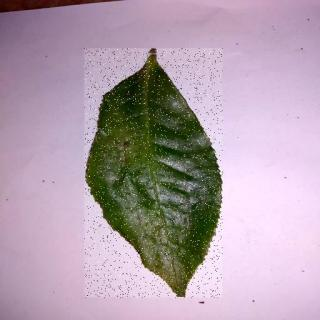Bird Eye Spot: (86, 50, 224, 300)
